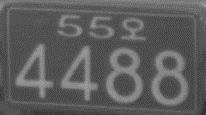4: (14, 42, 54, 99), (60, 44, 98, 102)
5: (56, 13, 83, 38), (88, 15, 115, 39)
8: (149, 49, 189, 107), (104, 45, 143, 104)
오: (119, 16, 147, 41)
